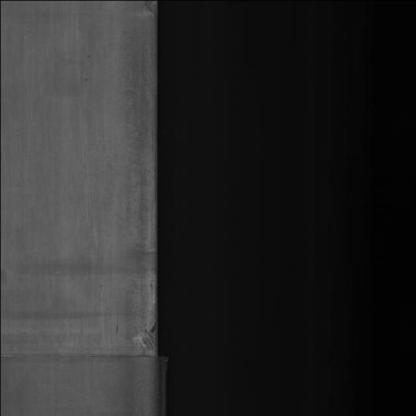welding_line: (4, 333, 173, 375)
